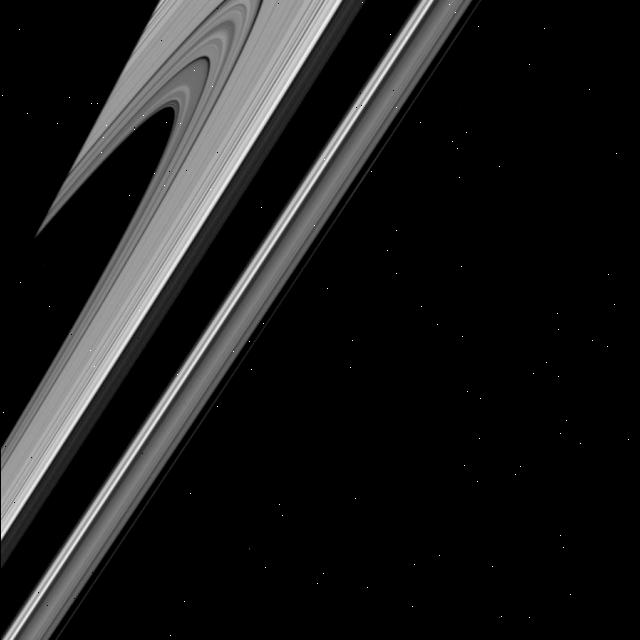Saturn: (0, 0, 537, 640)
